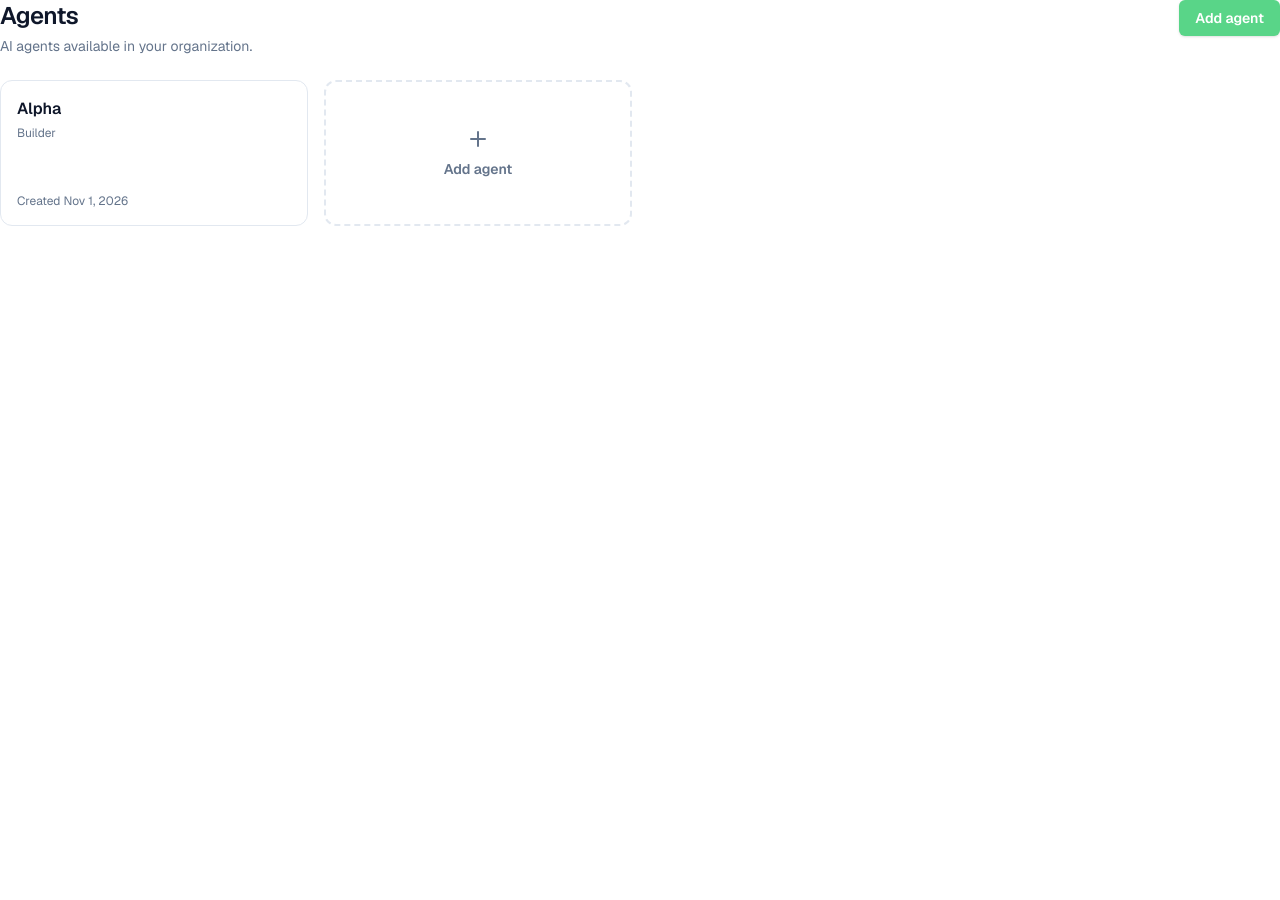
Test case: AgentsListPage › should open the choose-path dialog when the Add tile is clicked in the grid
This screenshot has width=1280, height=900.
Check: the heading "Alpha" is shown, box [17,98,61,119]
Click the button "Add agent" in the row of "Created Nov 1, 2026".
click(478, 153)  # box [324,80,632,226]
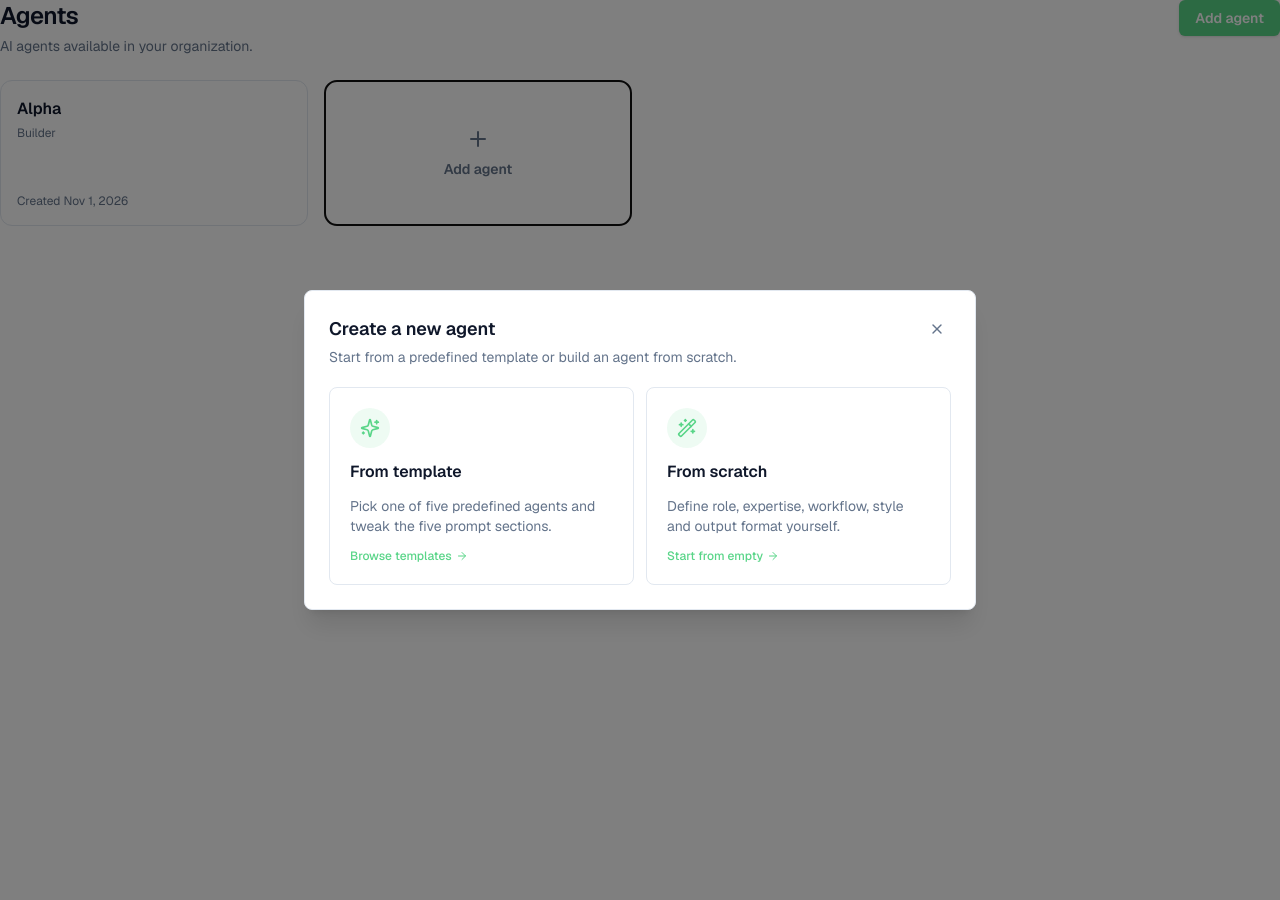
Check: the dialog is shown
Check: the heading "Create a new agent" is shown, box [329,317,495,340]
